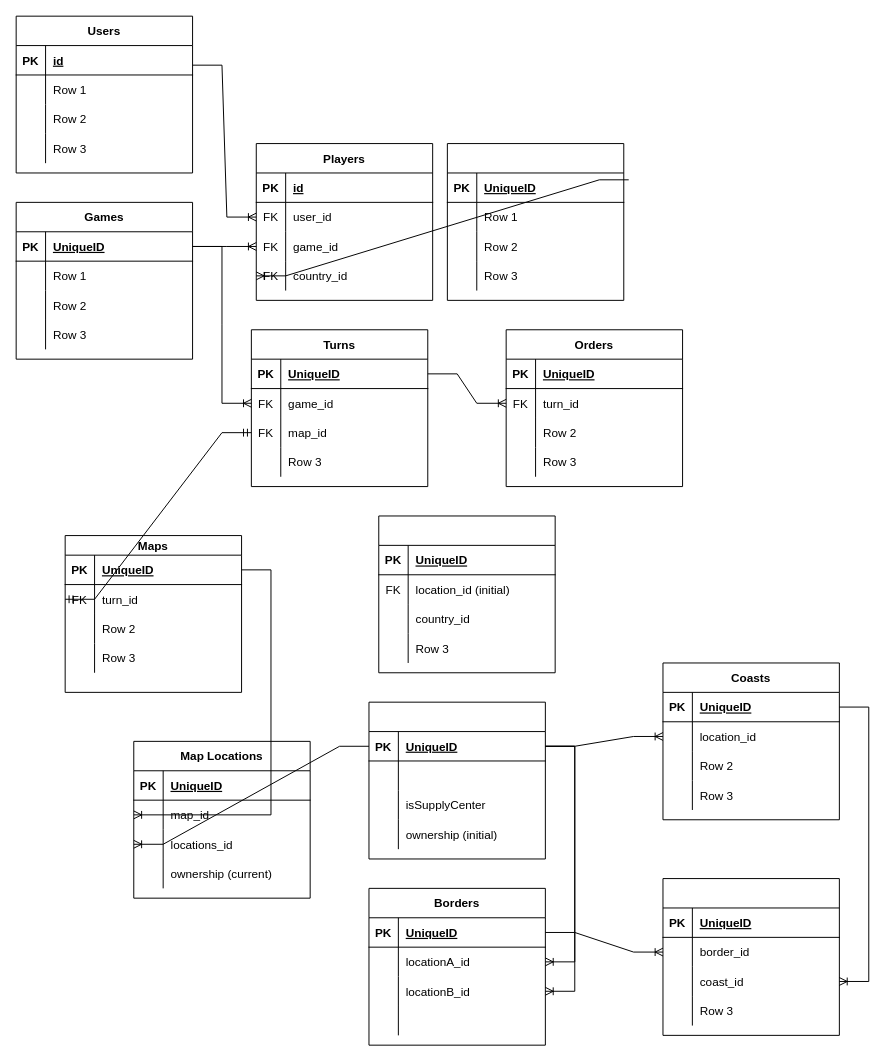
Image size: 885x1061. Some labels were removed from this diagram. The box of each missing label's shape, as (x1, y1, x2, y2) in pixels:
CoastBorders: (662, 878, 839, 1035)
Countries: (446, 143, 624, 300)
Locations: (368, 701, 545, 859)
Units: (378, 515, 555, 673)
